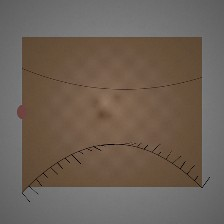corneal_ulcer: (91, 90, 130, 121)
